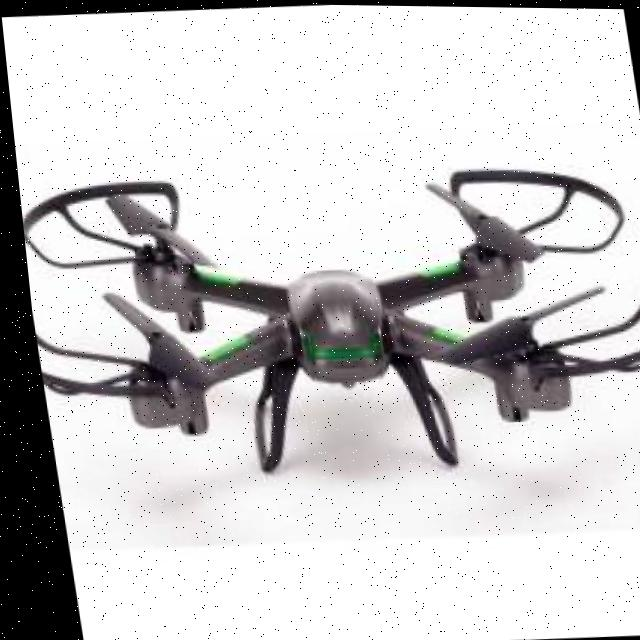drones: (10, 117, 640, 538)
